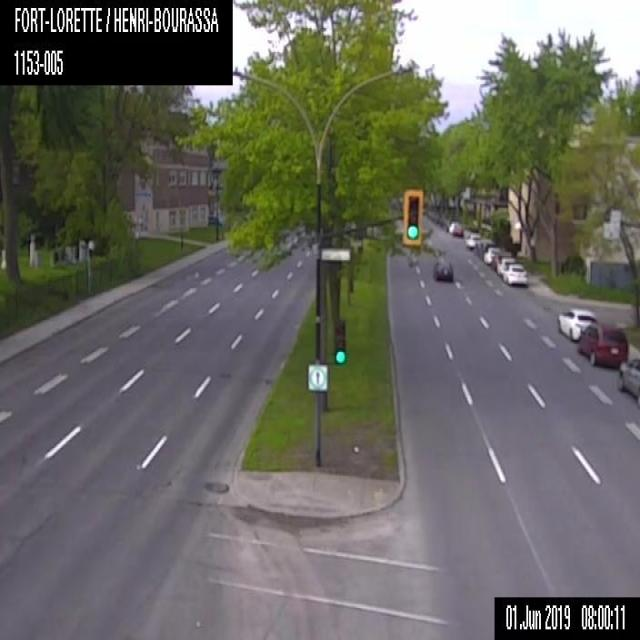vehicle: (578, 321, 627, 366), (557, 306, 598, 339), (617, 355, 639, 403), (503, 263, 528, 287), (431, 255, 452, 282), (495, 257, 516, 275), (474, 239, 493, 258), (483, 246, 502, 262), (464, 233, 480, 248), (208, 214, 220, 226), (447, 220, 457, 233), (451, 224, 462, 235)
